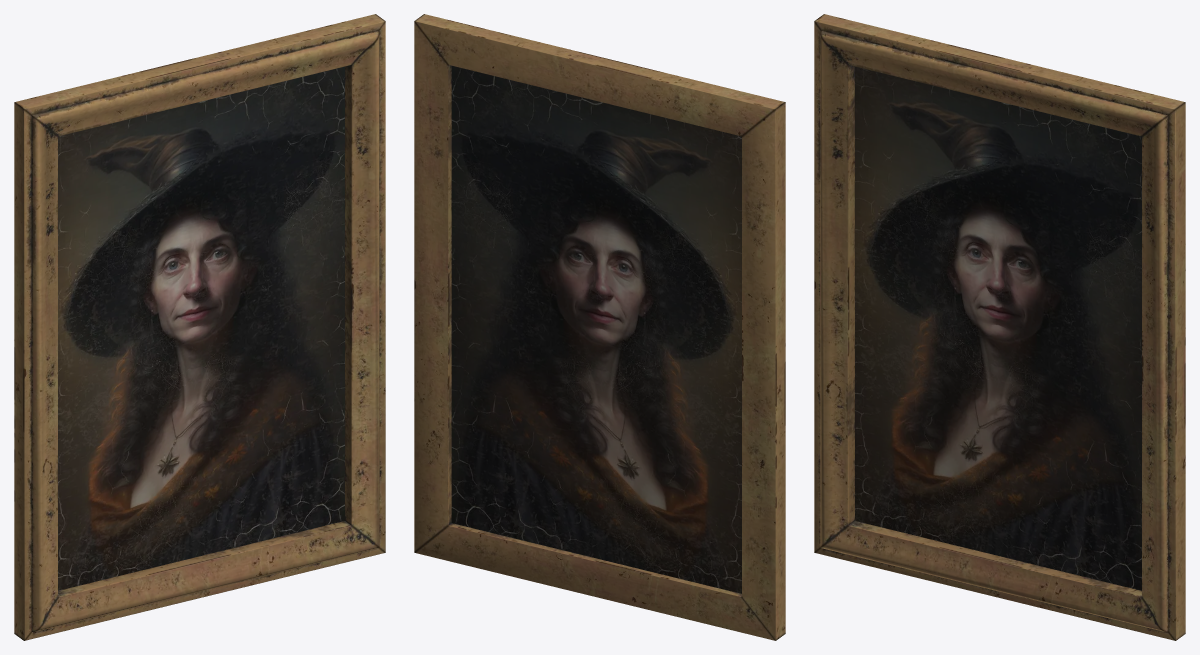
Rendered from witch.glb.
3 renders of one model, left to right at view 1: azimuth 30°, elevation 25°; view 2: azimuth 150°, elevation 25°; view 3: azimuth 330°, elevation 25°, orthographic.
Parts seen in each view (by area): view 1: Witch_01_Linum_low_OldPortraitWitch_01_0; view 2: Witch_01_Linum_low_OldPortraitWitch_01_0; view 3: Witch_01_Linum_low_OldPortraitWitch_01_0.
Part boxes in pixels (left/top/right/bottom): Witch_01_Linum_low_OldPortraitWitch_01_0: left=14, top=14, right=385, bottom=640; Witch_01_Linum_low_OldPortraitWitch_01_0: left=414, top=14, right=785, bottom=640; Witch_01_Linum_low_OldPortraitWitch_01_0: left=814, top=14, right=1185, bottom=640.
Bounding box in the file's own units: 40.97 × 57.6 × 2.65.
1 material, 1 textured.
